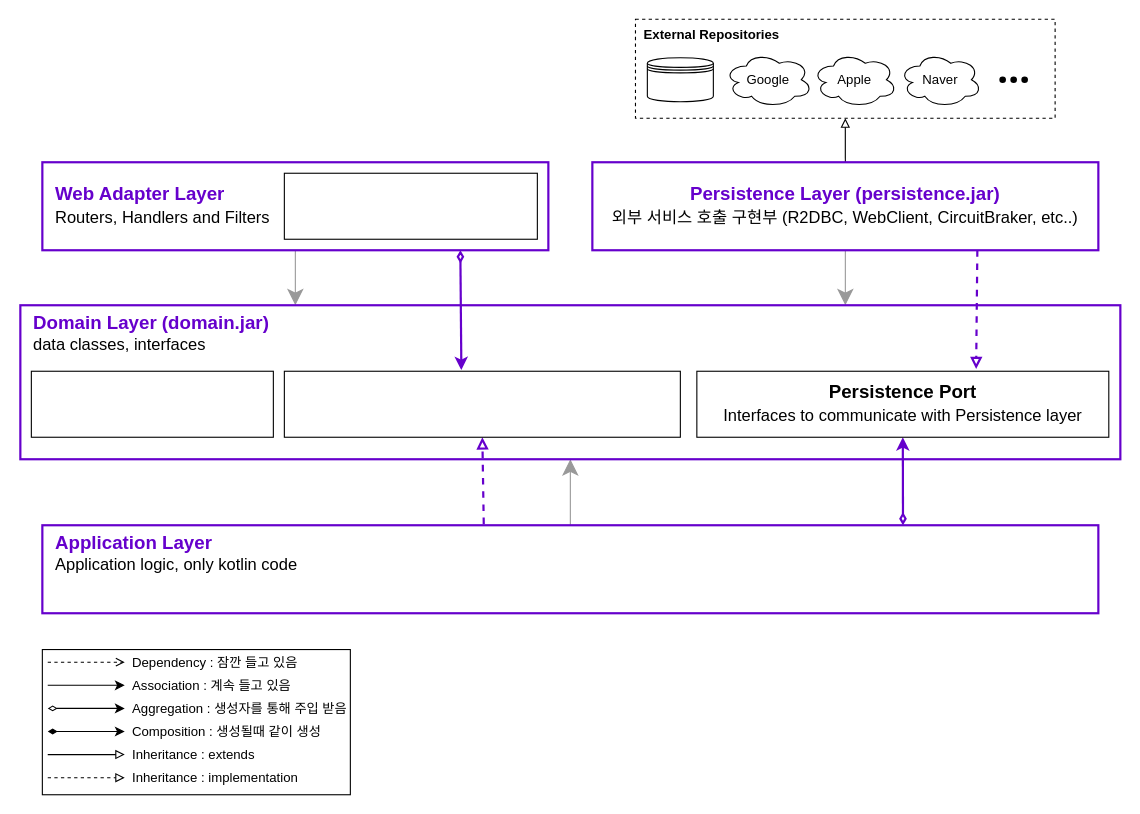
This 1140x814 diagram has some shape labels left out. The centre of each missing label's shape, as x and y in pixels:
Data Model Domain Data Models: the point at 151,403
DB: the point at 679,79
Request & Response Model protobuf messages: the point at 410,205
Use Case Port Interfaces to communicate with Application layer: the point at 481,403
